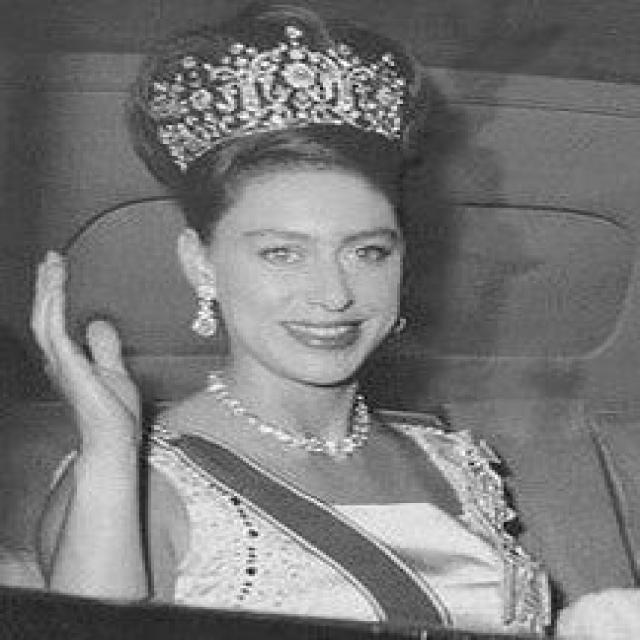Earring: (184, 286, 228, 348), (391, 319, 409, 343)
